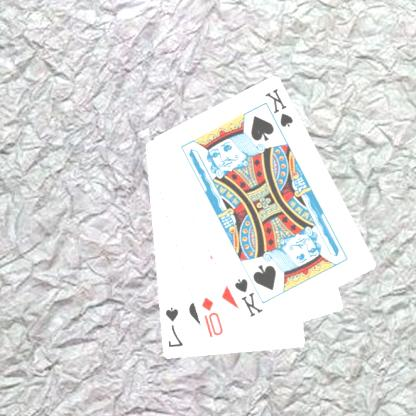10D: (200, 295, 226, 339)
7S: (164, 305, 186, 349)
KS: (262, 86, 296, 137), (233, 276, 266, 319)
